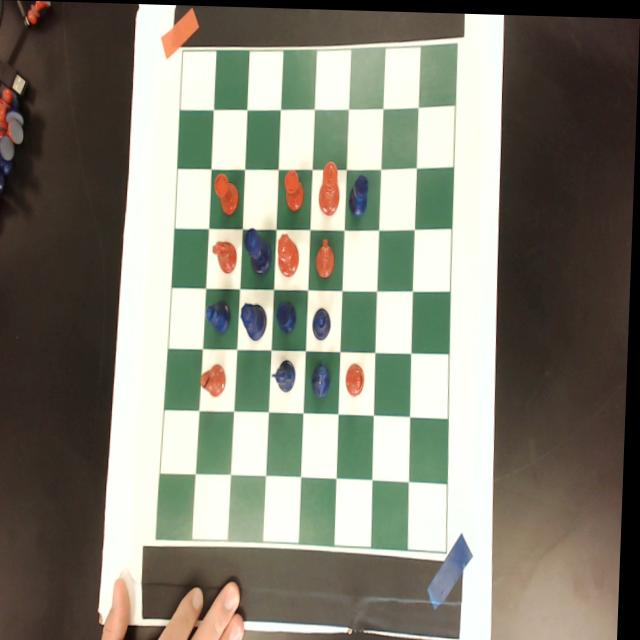B: (205, 295, 235, 337), (314, 300, 335, 337)
K: (244, 225, 275, 278)
N: (273, 356, 300, 393), (313, 359, 336, 399)
Q: (241, 300, 270, 340)
R: (350, 171, 370, 217), (278, 297, 300, 334)
b: (203, 361, 230, 397), (348, 360, 368, 396)
k: (319, 159, 343, 215)
n: (213, 238, 239, 273), (316, 237, 337, 277)
q: (278, 230, 302, 276)
r: (214, 172, 242, 216), (285, 166, 306, 211)
